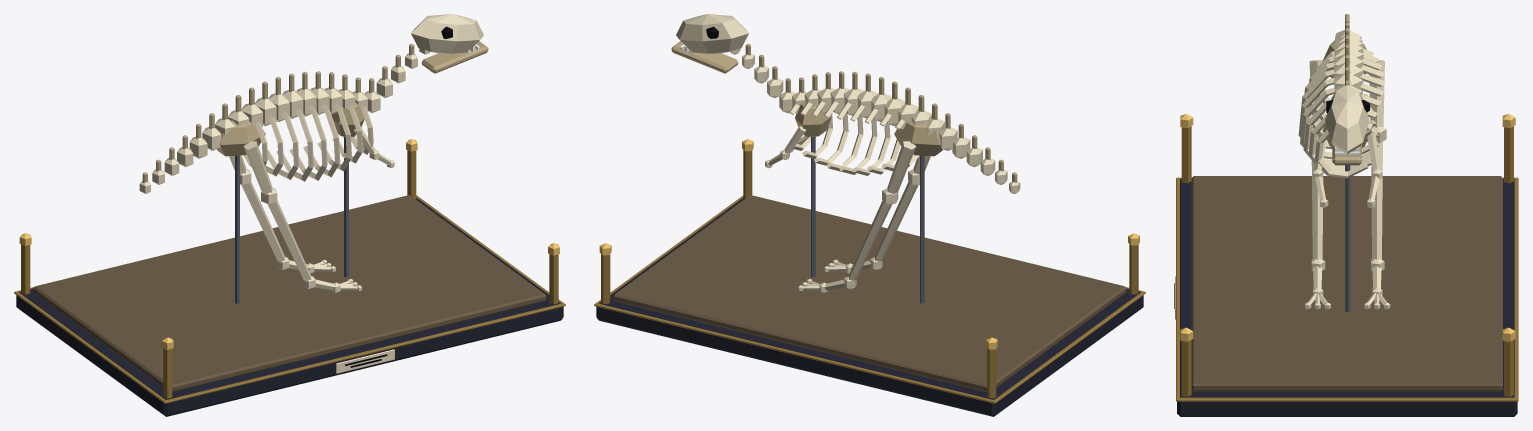
Rendered from dinosaurio.glb.
3 views of the same model, side by side, from view 1: azimuth 30°, elevation 25°; view 2: azimuth 150°, elevation 25°; view 3: azimuth 270°, elevation 25° (orthographic). The views are drawn at different scales.
Parts seen in each view (by area): view 1: dinosaurio; view 2: dinosaurio; view 3: dinosaurio.
Part boxes in pixels (x1=…): dinosaurio: x1=14, y1=14, x2=565, y2=416; dinosaurio: x1=594, y1=14, x2=1145, y2=416; dinosaurio: x1=1174, y1=14, x2=1518, y2=416.
Bounding box in the file's own units: 2.87 × 1.79 × 1.88.
